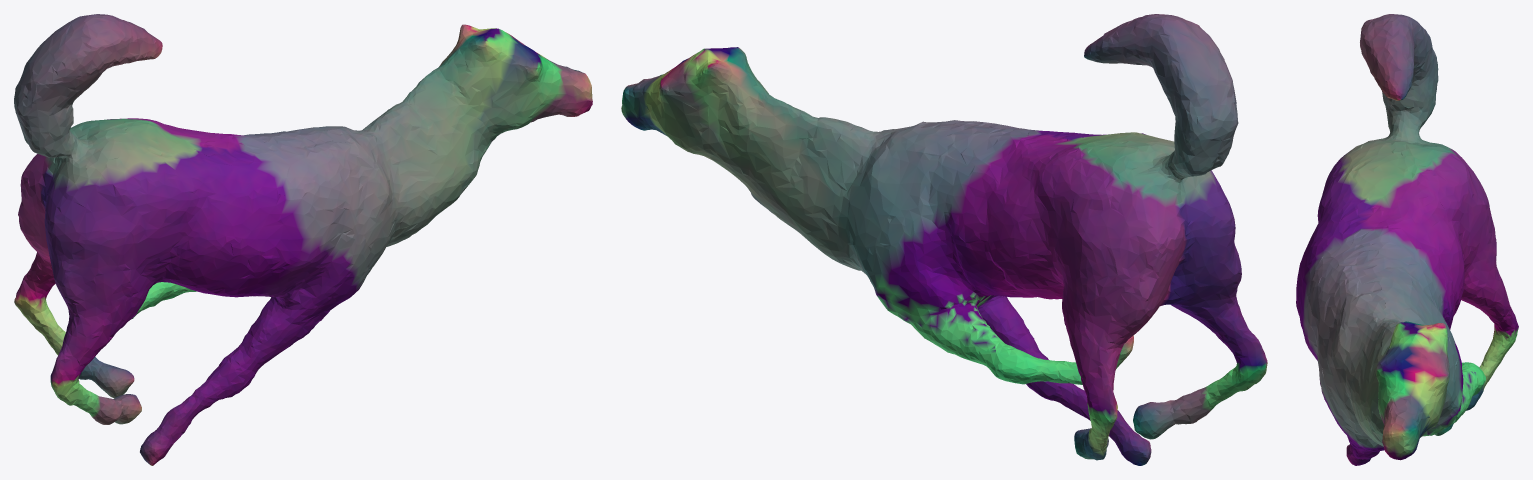
Rendered from horse-7.off.obj.
The picture shows the model from 3 angles, left to right: view 1: azimuth 30°, elevation 25°; view 2: azimuth 150°, elevation 25°; view 3: azimuth 270°, elevation 25°; orthographic projection. The views are drawn at different scales.
Size of the model in its own units: 1.41 by 1.04 by 0.4882.
